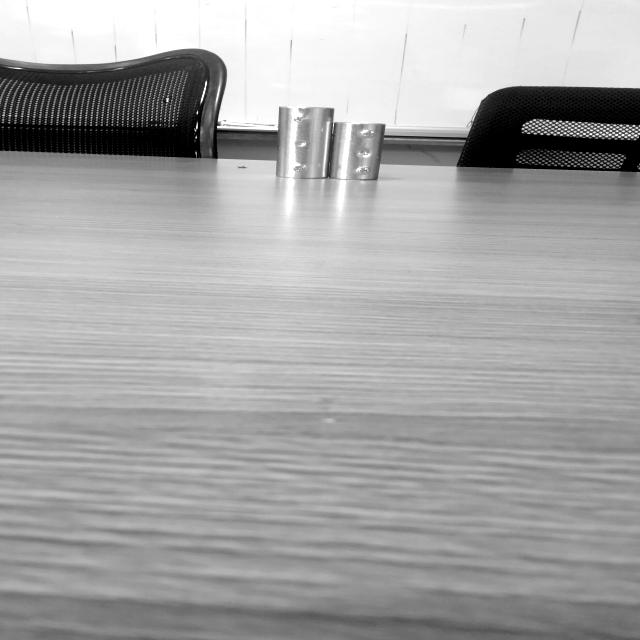Co_Lon: (275, 105, 334, 181)
Co_Nho: (328, 119, 385, 183)
